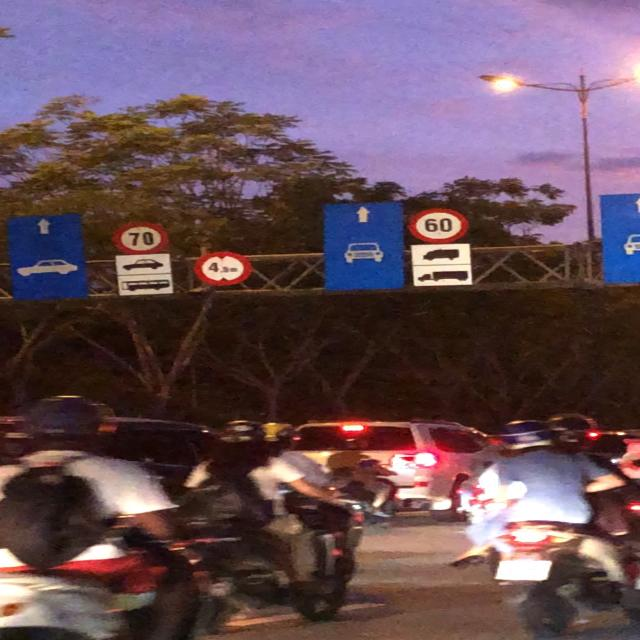Bien bao han che chieu cao: (191, 247, 252, 286)
Bien bao toc do toi da cho phep: (402, 202, 477, 242), (110, 219, 175, 257)
